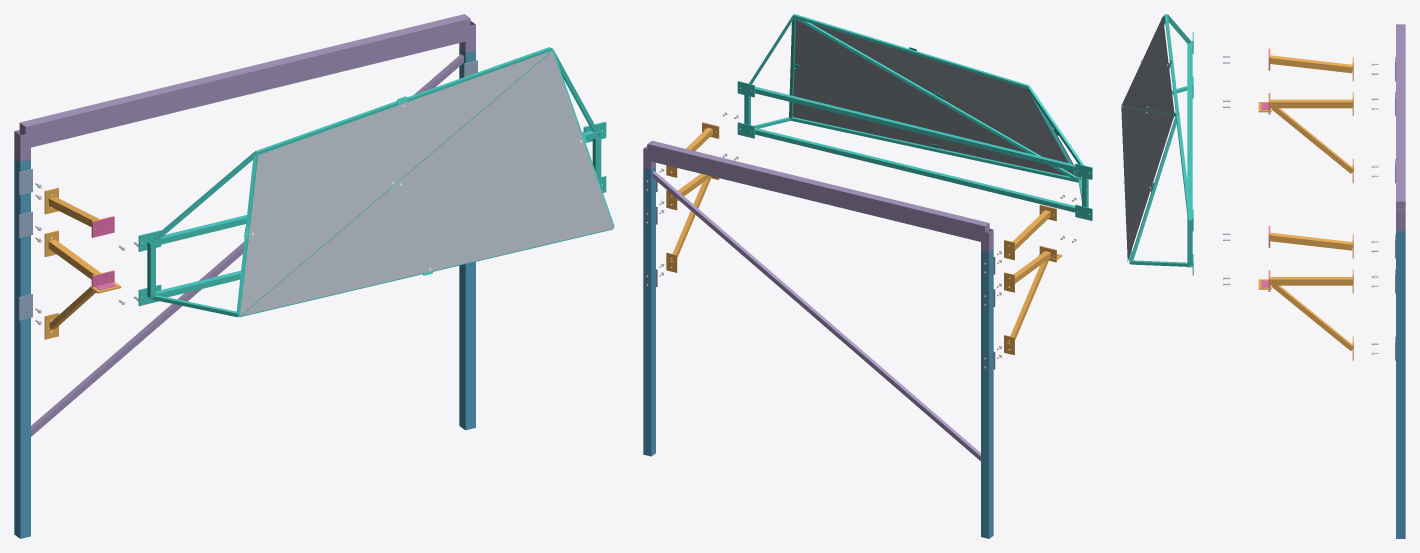
File: baaabs-panel-mounting-v3-exploded.glb
3 views of the same model, side by side, from view 1: azimuth 30°, elevation 25°; view 2: azimuth 150°, elevation 25°; view 3: azimuth 270°, elevation 25° (orthographic). The views are drawn at different scales.
Parts seen in each view (by area): view 1: B-D-033 existing skin, B-D-034 existing skin, Existing roof longitudinal, C driver upright, D driver upright, Existing C-D side brace, Facet backing edge (1, 3), Cassette top rail, Facet corner pickup 3, Cassette bottom rail, Facet backing edge (0, 3); view 2: B-D-033 existing skin, B-D-034 existing skin, Existing roof longitudinal, C driver upright, D driver upright, Existing C-D side brace, Cassette top rail, Cassette bottom rail, Facet backing edge (0, 1), Facet backing edge (0, 2), Facet backing edge (1, 3), C lower outrigger brace (+1 smaller); view 3: B-D-033 existing skin, D driver upright, B-D-034 existing skin, Existing roof longitudinal, Cassette top rail, C-lower outrigger, C-upper outrigger, D-upper outrigger, D-lower outrigger, D lower outrigger brace, C lower outrigger brace, Facet backing edge (1, 2) (+2 smaller).
Part boxes in pixels (box(x1,y1,x2,y2)): B-D-033 existing skin: box(241, 51, 613, 315); B-D-034 existing skin: box(240, 51, 550, 315); Existing roof longitudinal: box(19, 14, 470, 148); C driver upright: box(14, 157, 30, 538); D driver upright: box(459, 49, 475, 430); Existing C-D side brace: box(31, 54, 463, 436); Facet backing edge (1, 3): box(255, 47, 551, 154); Cassette top rail: box(150, 130, 598, 245); Facet corner pickup 3: box(150, 152, 255, 243); Cassette bottom rail: box(152, 270, 240, 300); Facet backing edge (0, 3): box(236, 153, 257, 314); B-D-033 existing skin: box(793, 19, 1066, 175); B-D-034 existing skin: box(811, 23, 1081, 179); Existing roof longitudinal: box(647, 140, 989, 241); C driver upright: box(981, 249, 993, 538); D driver upright: box(643, 167, 655, 456); Existing C-D side brace: box(652, 171, 980, 461); Cassette top rail: box(751, 86, 1078, 171); Cassette bottom rail: box(751, 128, 1078, 212); Facet backing edge (0, 1): box(794, 18, 1078, 181); Facet backing edge (0, 2): box(791, 117, 1078, 182); Facet backing edge (1, 3): box(793, 14, 1028, 88); C lower outrigger brace: box(1007, 259, 1048, 344); B-D-033 existing skin: box(1121, 106, 1174, 261); D driver upright: box(1396, 231, 1405, 538); B-D-034 existing skin: box(1121, 16, 1174, 114); Existing roof longitudinal: box(1396, 24, 1405, 209); Cassette top rail: box(1187, 41, 1192, 220); C-lower outrigger: box(1270, 99, 1352, 108); C-upper outrigger: box(1270, 55, 1352, 73); D-upper outrigger: box(1270, 232, 1352, 250); D-lower outrigger: box(1270, 277, 1352, 285); D lower outrigger brace: box(1272, 285, 1354, 350); C lower outrigger brace: box(1272, 108, 1354, 173); Facet backing edge (1, 2): box(1129, 114, 1177, 262).
Bounding box in the file's own units: 3.41 × 3.42 × 2.19.
